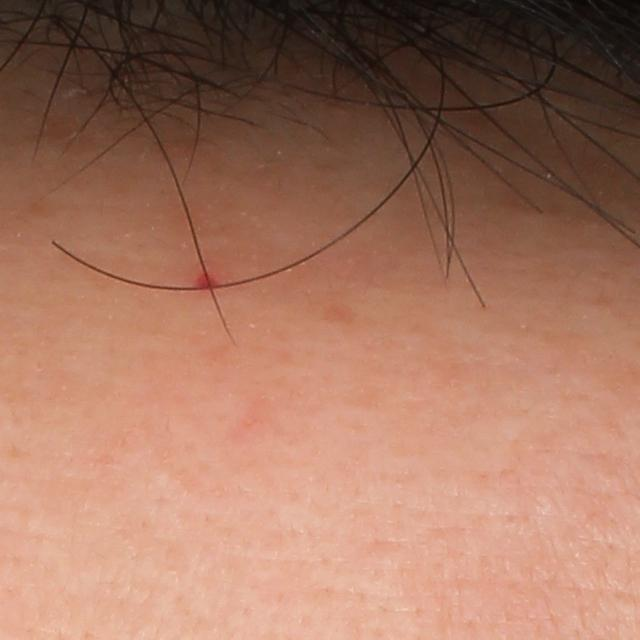other: (192, 264, 226, 298)
